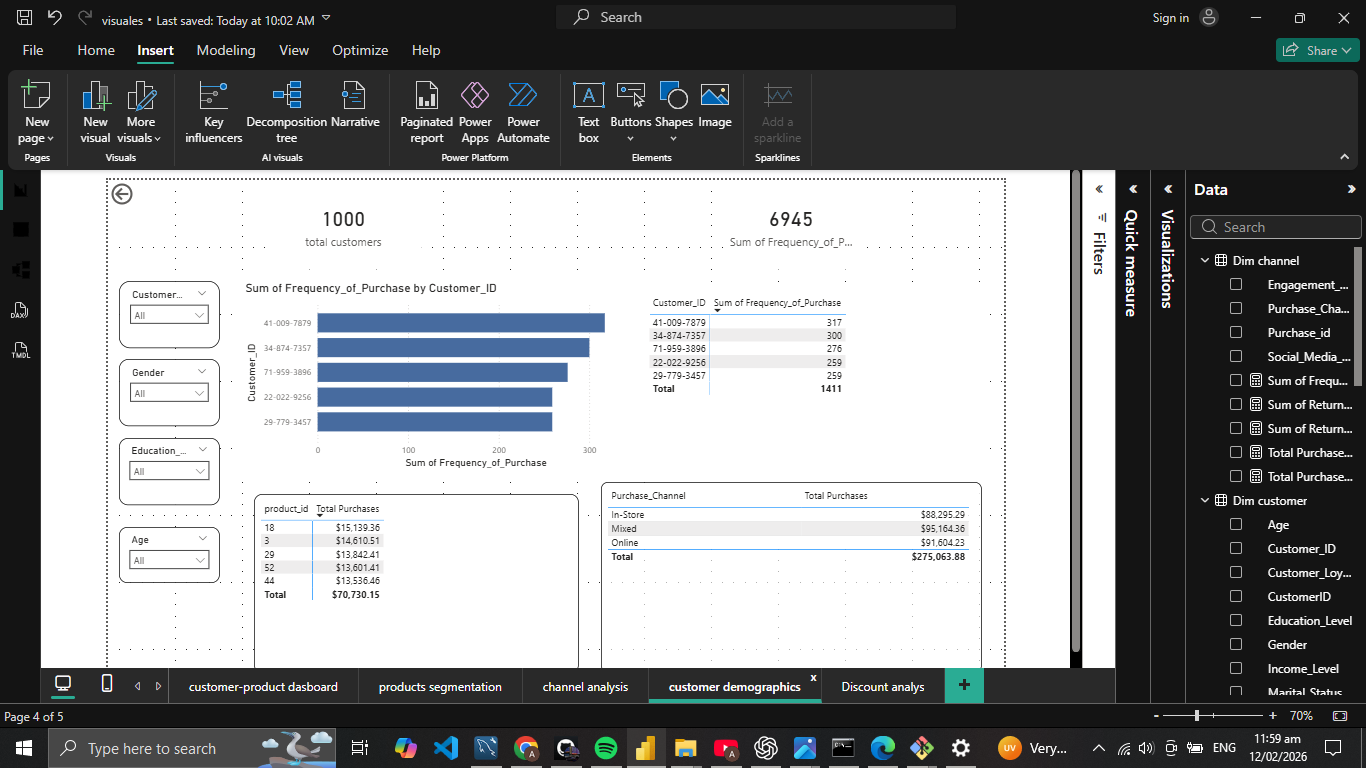

Layout of this report page (visuals, bound fields, positions):
{"tool":"powerbi","page":{"name":"customer demographics ","canvas":[1280,720],"ordinal":3},"visuals":[{"type":"card","fields":{"Values":["Fact eccomerce.total customers"]},"box":[224,0,224,128],"z":0},{"type":"barChart","fields":{"Category":["Dim customer.Customer_ID"],"Y":["Sum(Fact eccomerce.Frequency_of_Purchase)"]},"box":[192,144,576,272],"z":1000},{"type":"pivotTable","fields":{"Rows":["Dim product.product_id"],"Values":["Fact eccomerce.Total Purchases"]},"box":[208,448,464,256],"z":2000},{"type":"pivotTable","fields":{"Rows":["Dim customer.Customer_ID"],"Values":["Sum(Fact eccomerce.Frequency_of_Purchase)"]},"box":[768,160,480,288],"z":3000},{"type":"tableEx","fields":{"Values":["Dim channel.Purchase_Channel","Fact eccomerce.Total Purchases"]},"box":[704,432,544,272],"z":4000},{"type":"actionButton","box":[0,0,100,40],"z":5000},{"type":"card","fields":{"Values":["Sum(Fact eccomerce.Frequency_of_Purchase)"]},"box":[880,0,192,128],"z":6000},{"type":"slicer","fields":{"Values":["Dim customer.Customer_ID"]},"box":[16,144,144,96],"z":6001},{"type":"slicer","fields":{"Values":["Dim customer.Age"]},"box":[16,496,144,80],"z":6002},{"type":"slicer","fields":{"Values":["Dim customer.Gender"]},"box":[16,256,144,96],"z":6003},{"type":"slicer","fields":{"Values":["Dim customer.Education_Level"]},"box":[16,368,144,96],"z":6004}]}

Visuals, with their boxes on the page's 1280x720 design canvas (x1, y1, x2, y2). These are canvas units, not pixel positions in the 1366x768 screenshot, which may show the page scaled, cropped or inside an application window:
card - Fact eccomerce.total customers: {"left": 224, "top": 0, "right": 448, "bottom": 128}
barChart - Dim customer.Customer_ID x Sum(Fact eccomerce.Frequency_of_Purchase): {"left": 192, "top": 144, "right": 768, "bottom": 416}
pivotTable - Dim product.product_id x Fact eccomerce.Total Purchases: {"left": 208, "top": 448, "right": 672, "bottom": 704}
pivotTable - Dim customer.Customer_ID x Sum(Fact eccomerce.Frequency_of_Purchase): {"left": 768, "top": 160, "right": 1248, "bottom": 448}
tableEx - Dim channel.Purchase_Channel x Fact eccomerce.Total Purchases: {"left": 704, "top": 432, "right": 1248, "bottom": 704}
actionButton: {"left": 0, "top": 0, "right": 100, "bottom": 40}
card - Sum(Fact eccomerce.Frequency_of_Purchase): {"left": 880, "top": 0, "right": 1072, "bottom": 128}
slicer - Dim customer.Customer_ID: {"left": 16, "top": 144, "right": 160, "bottom": 240}
slicer - Dim customer.Age: {"left": 16, "top": 496, "right": 160, "bottom": 576}
slicer - Dim customer.Gender: {"left": 16, "top": 256, "right": 160, "bottom": 352}
slicer - Dim customer.Education_Level: {"left": 16, "top": 368, "right": 160, "bottom": 464}
